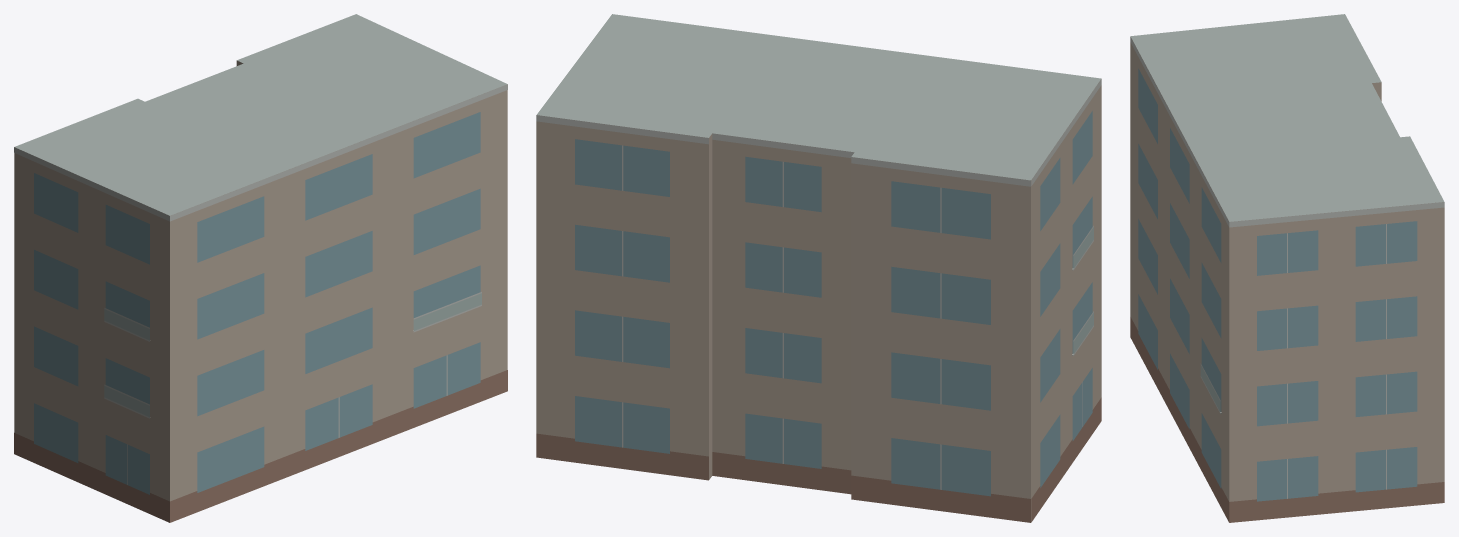
Rendered from survey-upis-32720232.glb.
3 views of the same model, side by side, from view 1: azimuth 30°, elevation 25°; view 2: azimuth 150°, elevation 25°; view 3: azimuth 270°, elevation 25° (orthographic). The views are drawn at different scales.
Visible parts, largest first — view 1: survey-upis-32720232.tmp; view 2: survey-upis-32720232.tmp; view 3: survey-upis-32720232.tmp.
Part boxes in pixels (left/top/right/bottom): survey-upis-32720232.tmp: left=14, top=14, right=507, bottom=522; survey-upis-32720232.tmp: left=536, top=14, right=1101, bottom=522; survey-upis-32720232.tmp: left=1130, top=14, right=1444, bottom=522.
Size of the model in its own units: 19.49 by 13.15 by 12.45.
